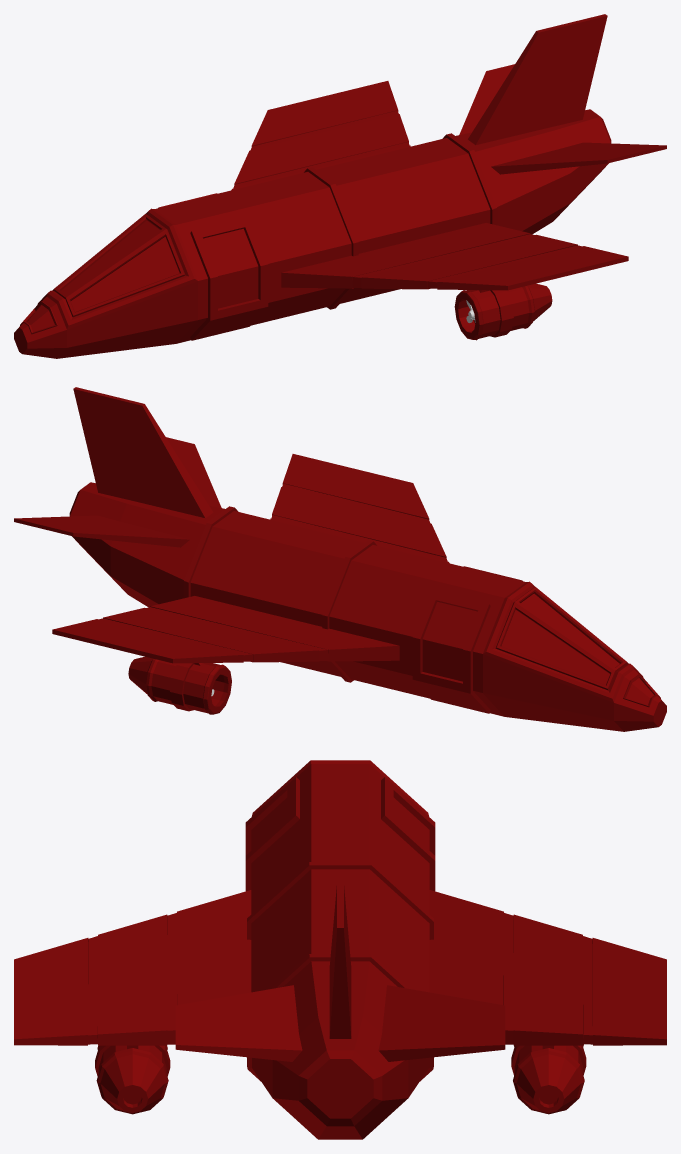
File: tank_red_2.glb
3 renders of one model, top to bottom at view 1: azimuth 30°, elevation 25°; view 2: azimuth 150°, elevation 25°; view 3: azimuth 270°, elevation 25°, orthographic. The views are drawn at different scales.
Visible parts, largest first — view 1: Cube.002; view 2: Cube.002; view 3: Cube.002.
Part boxes in pixels (<box>): Cube.002: <box>14,14,666,358</box>; Cube.002: <box>14,387,666,731</box>; Cube.002: <box>14,760,666,1139</box>.
Size of the model in its own units: 1 by 0.3546 by 0.7105.
